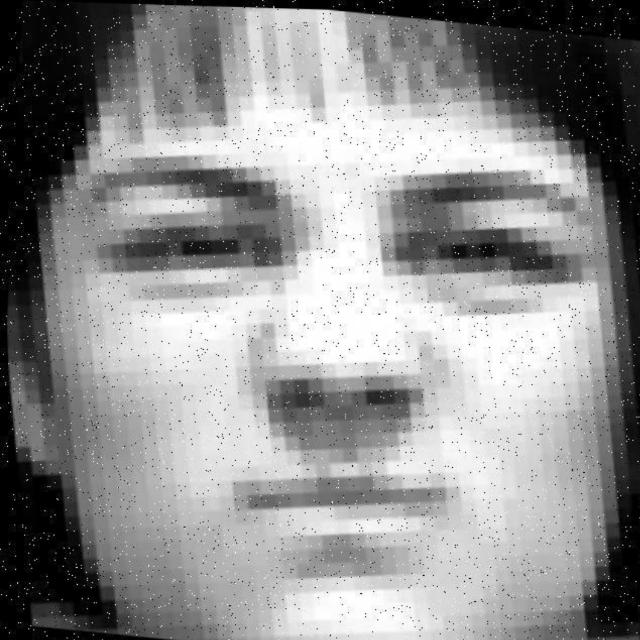Disgust: (35, 26, 640, 606)
